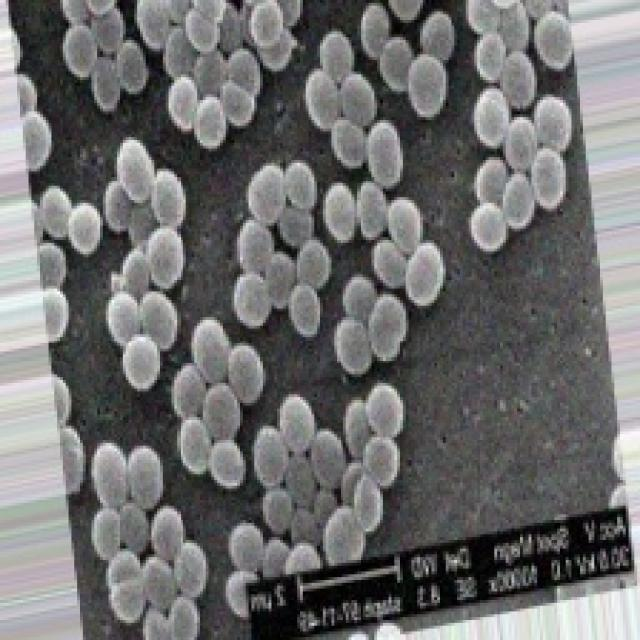Spherical_bacteria: (3, 0, 580, 637)
